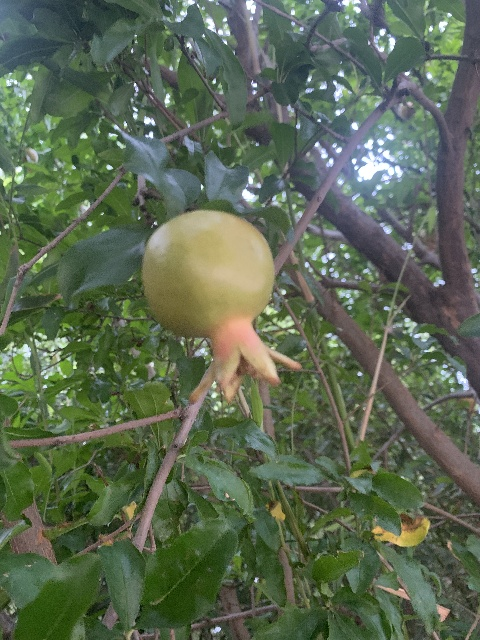mid-growth: (140, 209, 302, 406)
